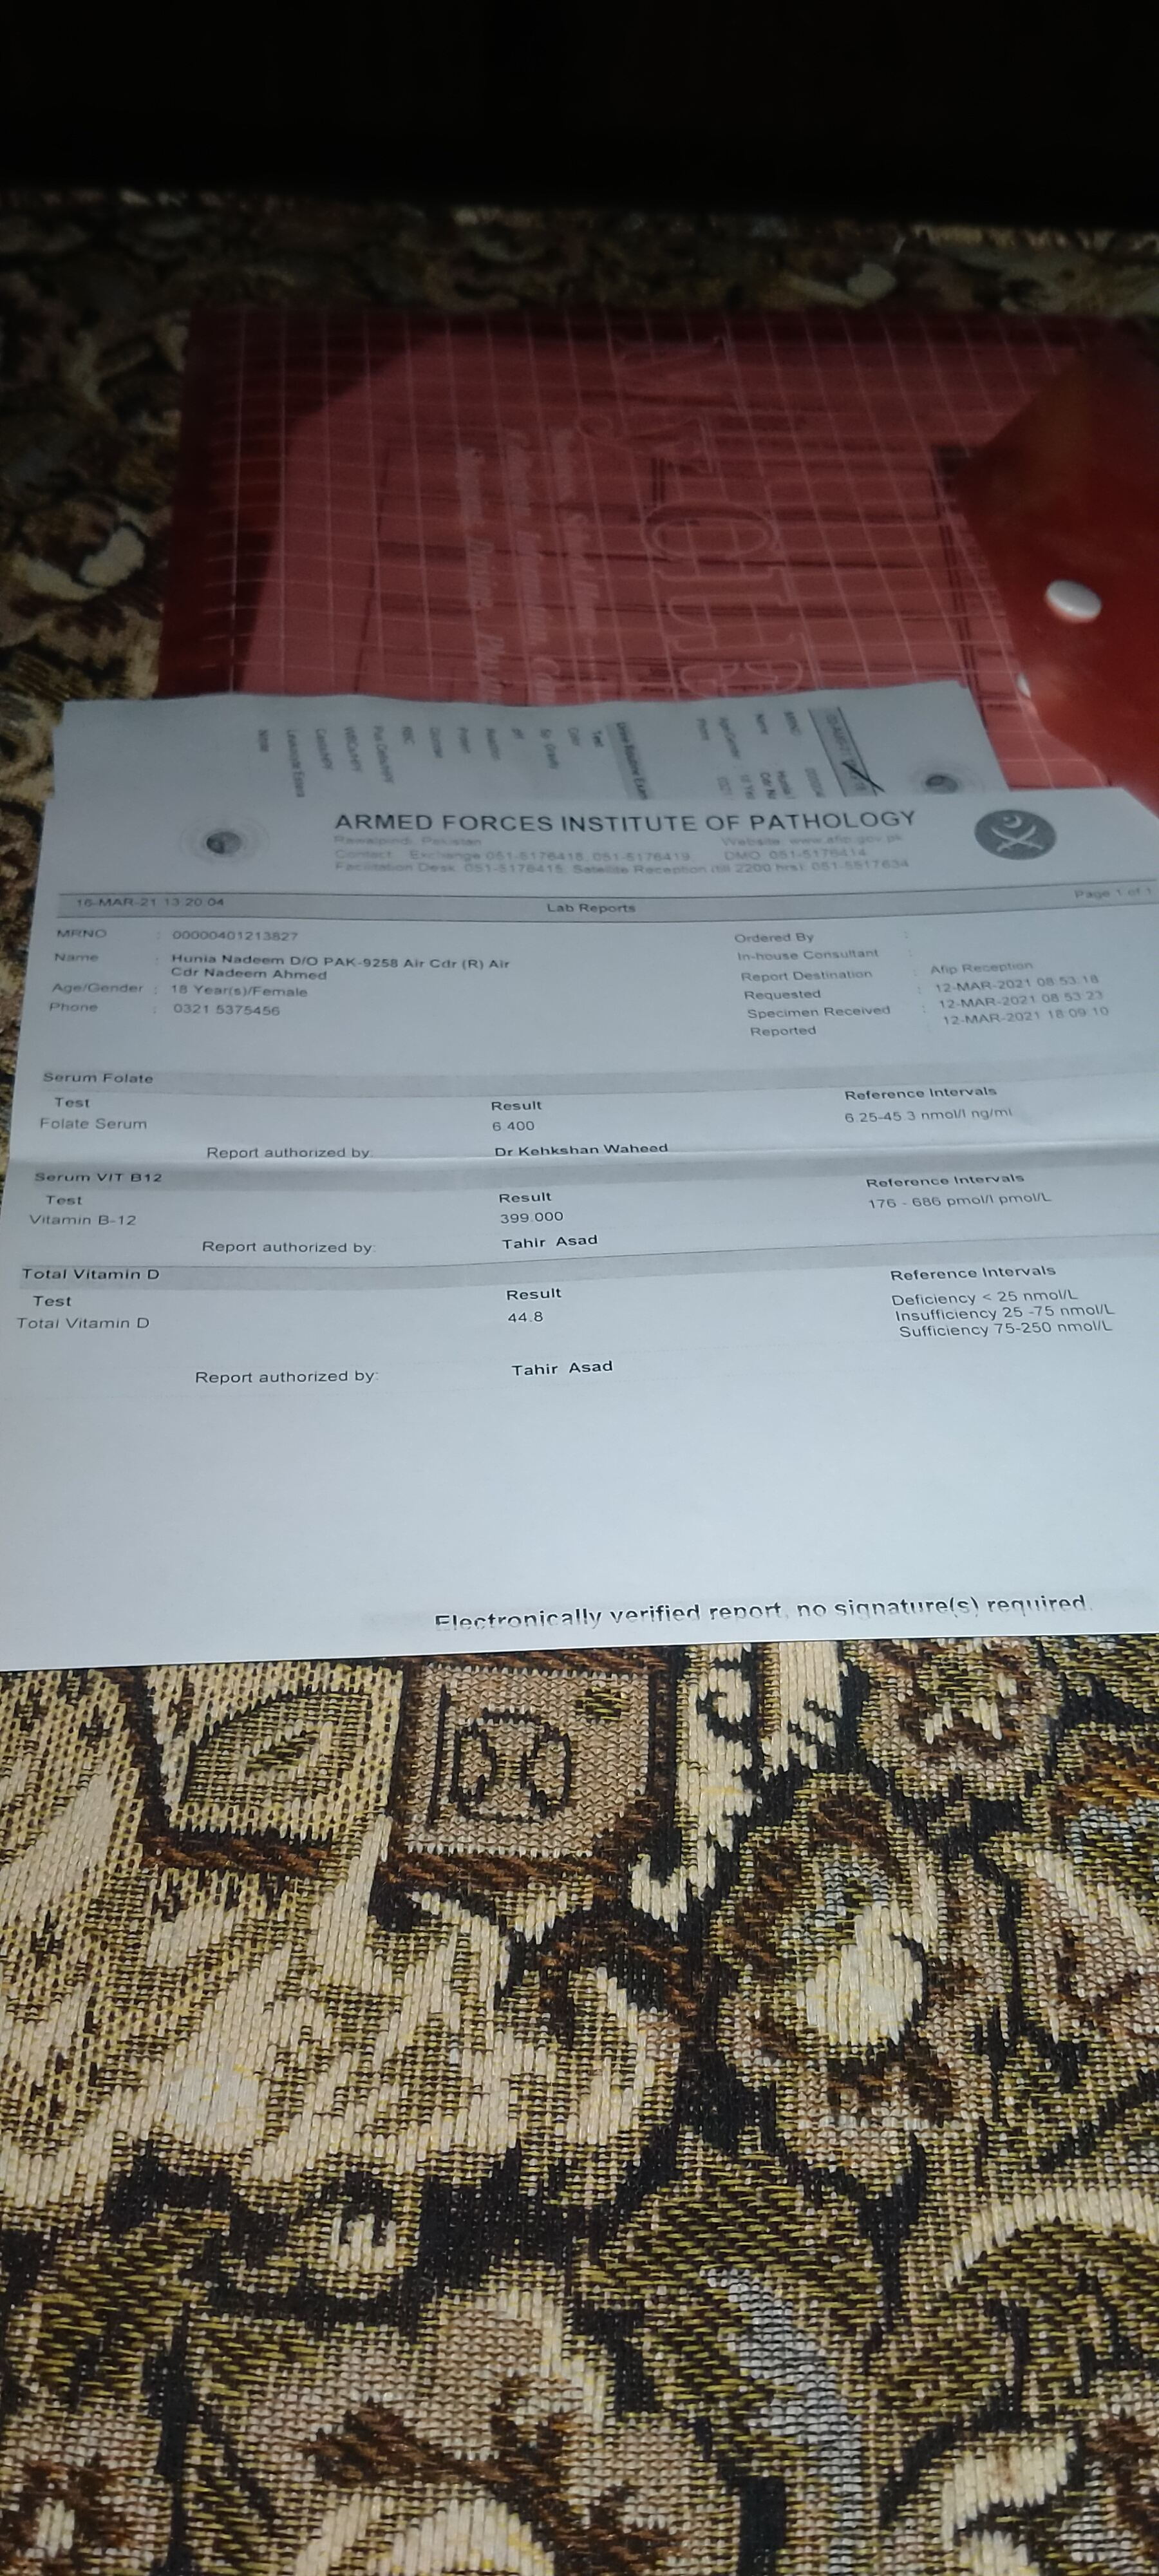report: (16, 1048, 1157, 1413)
